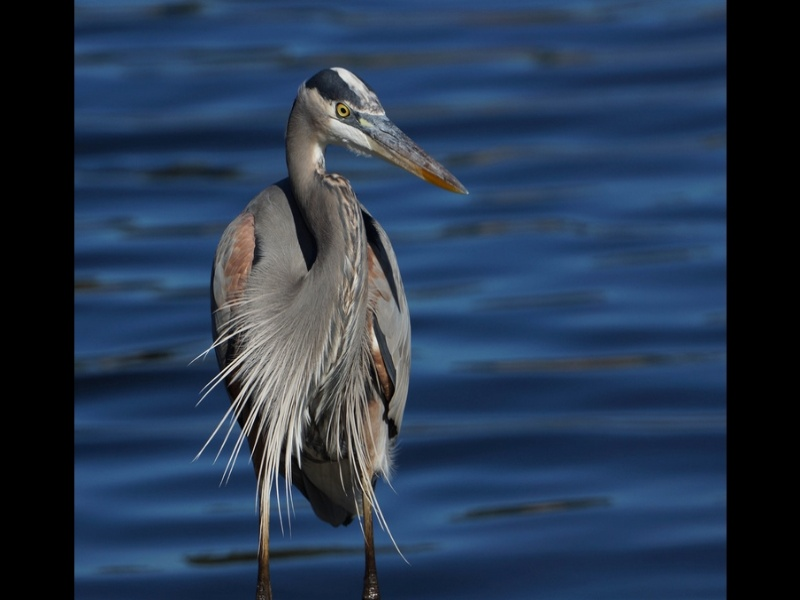heron: (197, 59, 478, 588)
